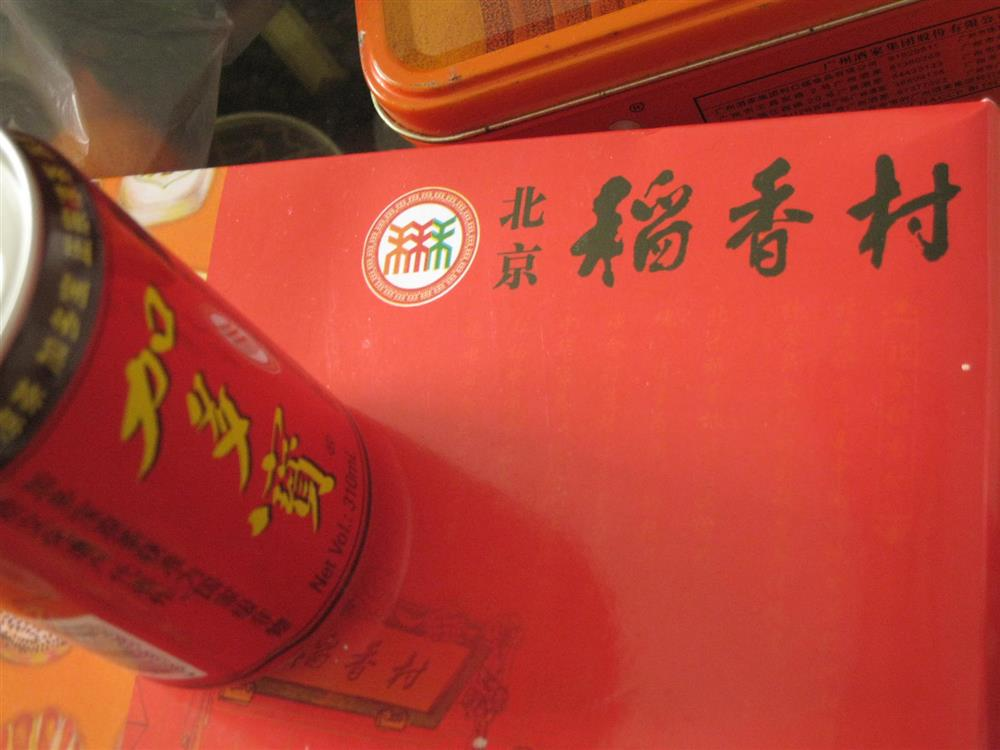JDB: (3, 93, 423, 710)
